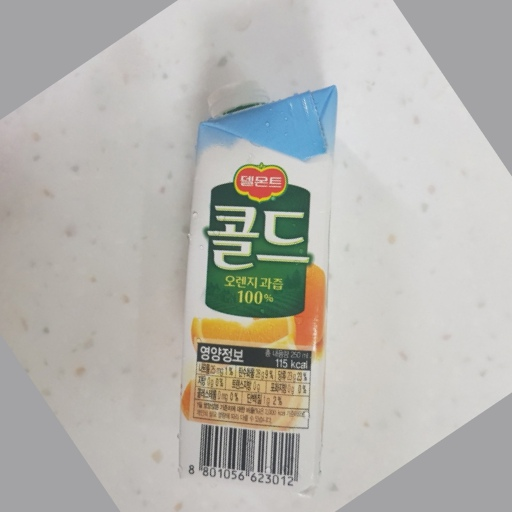Paper_0: (176, 83, 341, 502)
